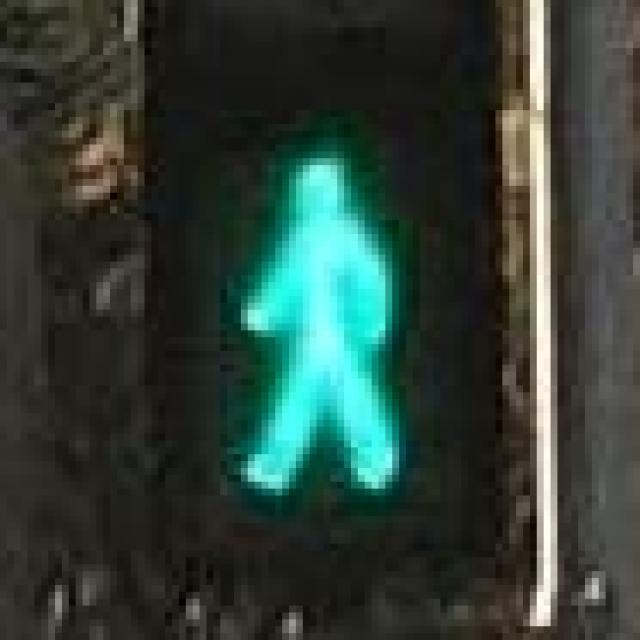green_light: (151, 96, 468, 523)
